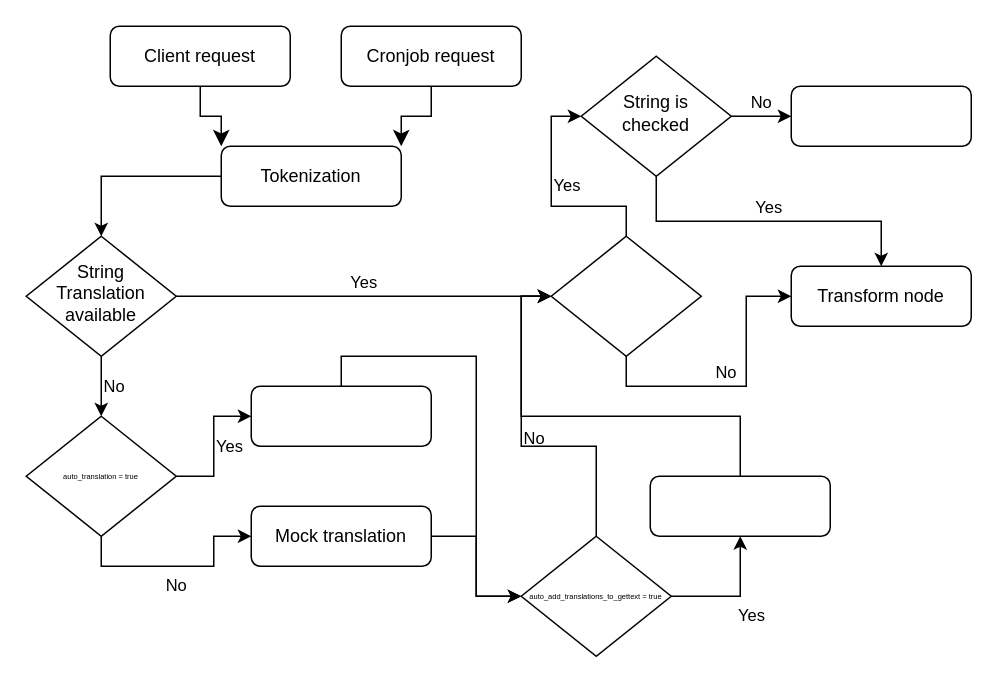
This 998x683 diagram has some shape labels left out. The shapes that lost their labels are listed below. From the top down, each one's box as (x1, y1, x2, y2) in pixels, then its label:
(790, 85, 971, 146): Do nothing
(550, 235, 701, 356): only_show_checked_strings = true
(250, 385, 431, 446): Auto translate
(649, 475, 830, 536): Add to gettext
